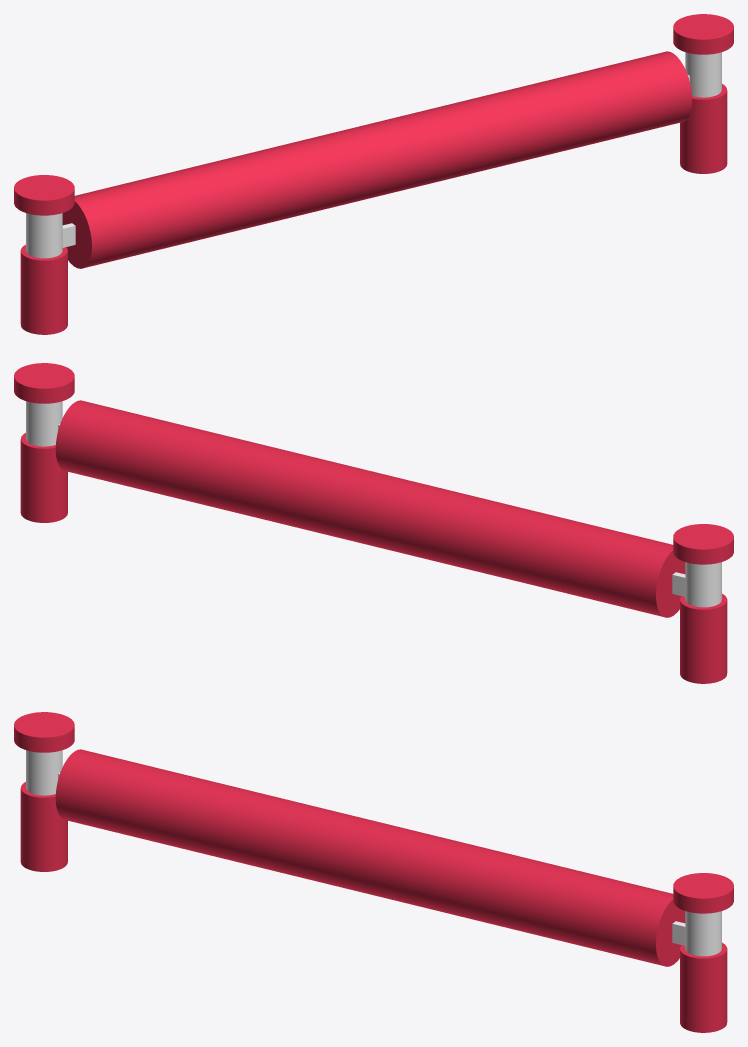
File: Bar.fbx
3 renders of one model, top to bottom at view 1: azimuth 30°, elevation 25°; view 2: azimuth 150°, elevation 25°; view 3: azimuth 330°, elevation 25°, orthographic.
Parts seen in each view (by area): view 1: Cylinder.007; view 2: Cylinder.007; view 3: Cylinder.007.
Part boxes in pixels (bbox=[...]): Cylinder.007: bbox=[14, 14, 733, 334]; Cylinder.007: bbox=[14, 363, 733, 683]; Cylinder.007: bbox=[14, 712, 733, 1032].
Bounding box in the file's own units: 243 × 44.83 × 21.55.
2 materials, 2 textured.
